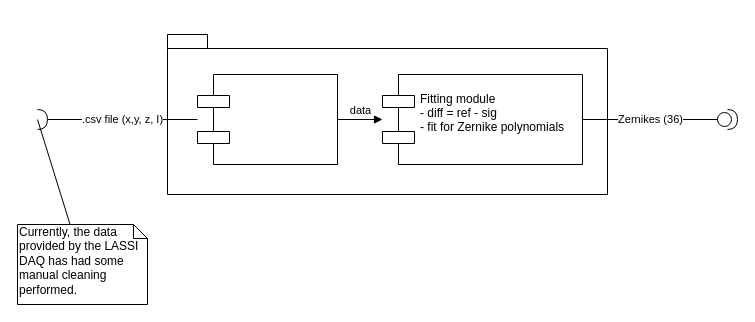
The diagram is 755 pixels wide and 322 high, and some of its shapes have lost their labels. Here are the shapes that lost their labels. From the top down, the box of each, then its label:
(196, 74, 338, 164): Data manipulation - basic filtering - smoothing - fitting - regridding
(166, 34, 608, 194): LASSI Post-Processing
